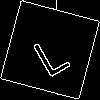L: (25, 25, 72, 79)
